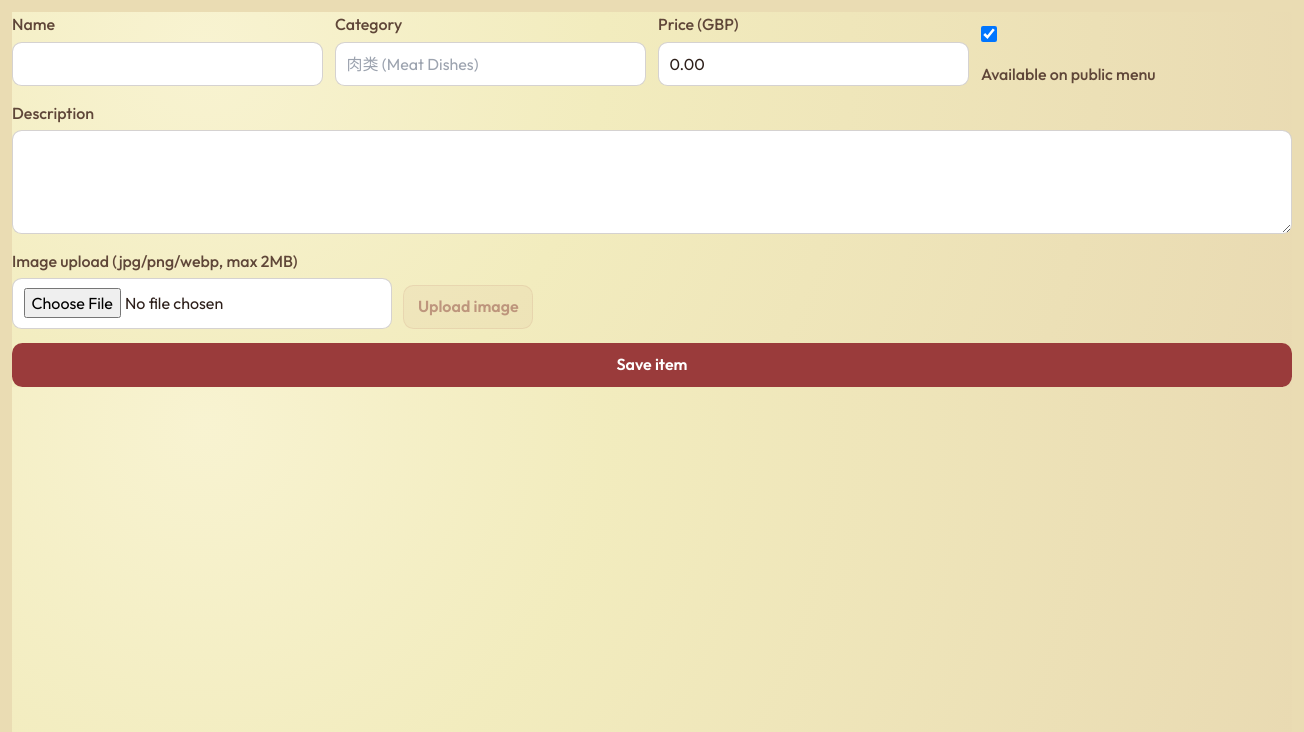
Test: MenuItemForm › blocks negative GBP price before submit
Type "Test Dish" into the field labelled "Name" at (168, 64), box [12,42,323,86]
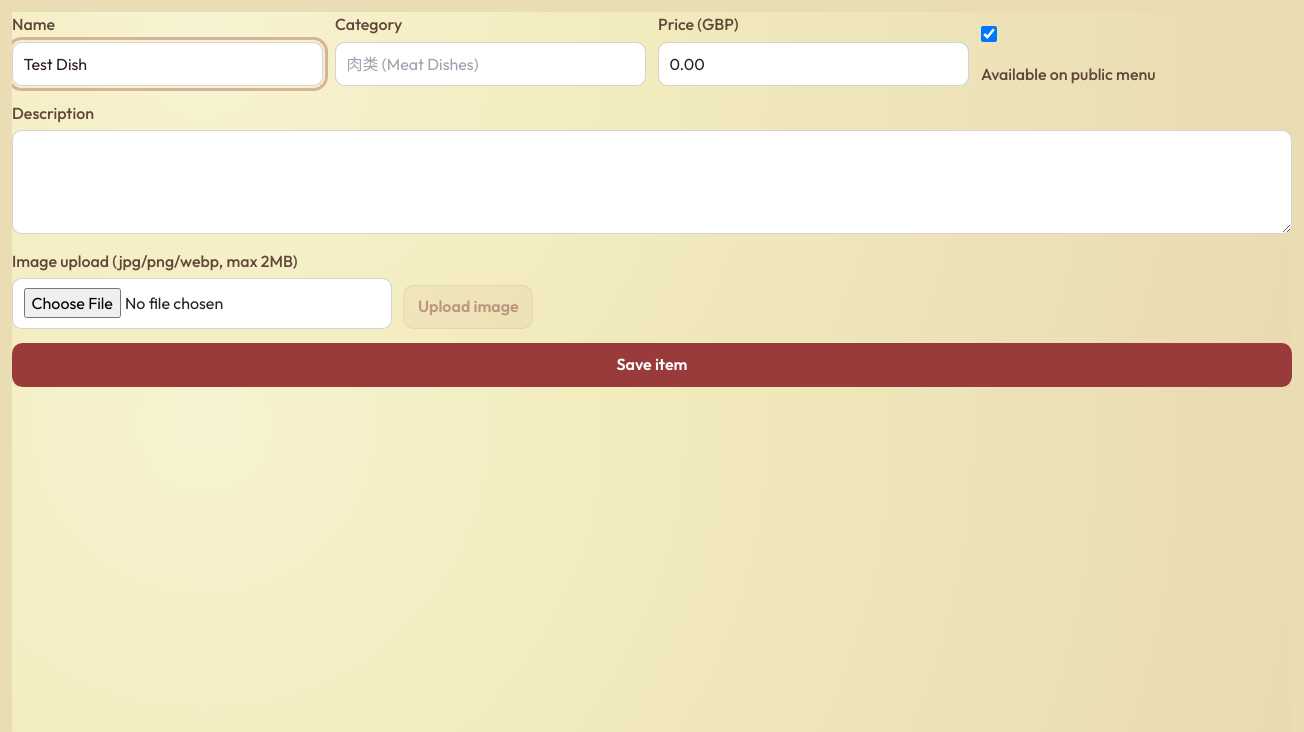
Replace the text in the field labelled "Price (GBP)" with "-1" at (814, 64), box [658,42,969,86]
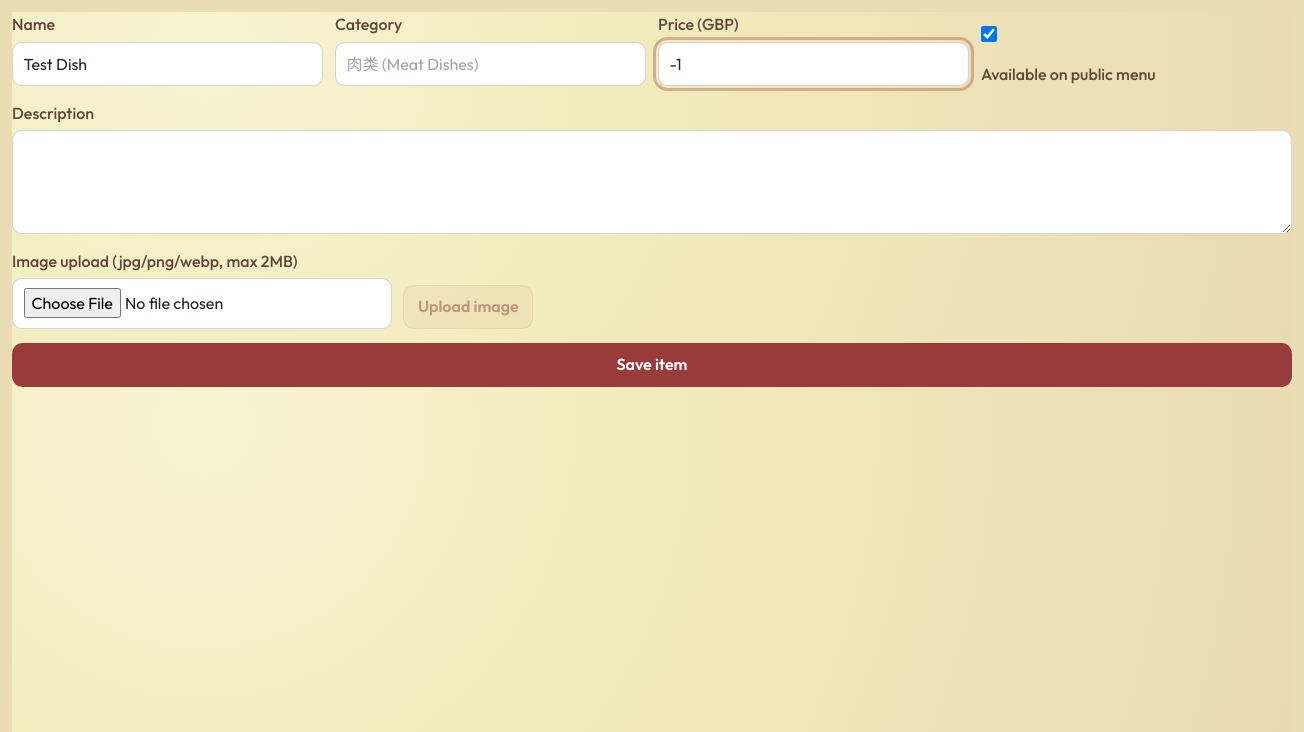
Click the button "Save item" at (652, 365), box [12,343,1292,387]
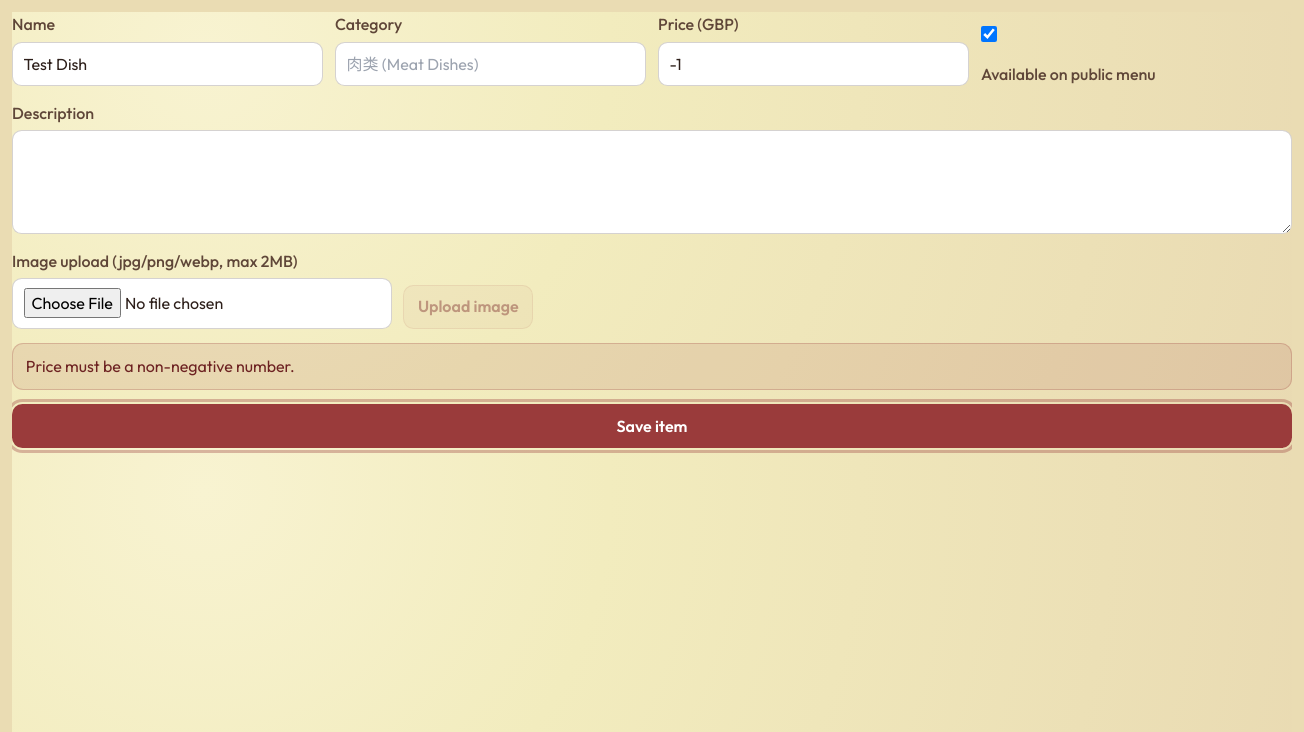
Check: the text "Price must be a non-negative number." is shown, box [12,343,1292,390]
